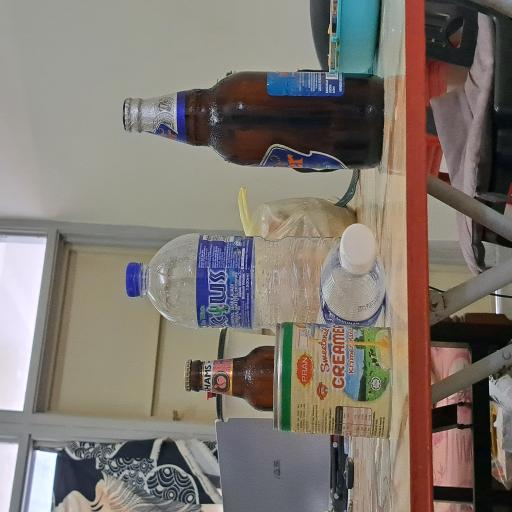can: (56, 362, 139, 512)
glass bottle: (258, 161, 330, 511), (76, 238, 126, 366)
plastic bottle: (136, 164, 210, 456), (143, 421, 218, 512)
plastic bottle cap: (179, 448, 216, 501), (161, 169, 189, 196)
